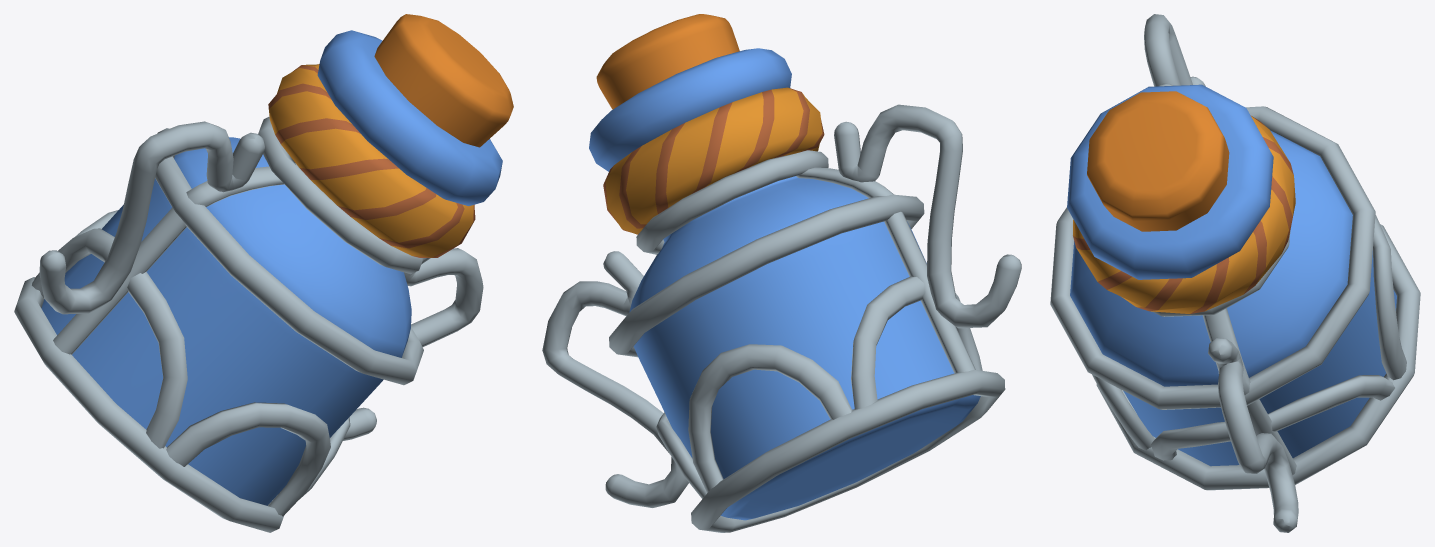
The picture shows the model from 3 angles, left to right: view 1: azimuth 30°, elevation 25°; view 2: azimuth 150°, elevation 25°; view 3: azimuth 270°, elevation 25°; orthographic projection. The views are drawn at different scales.
Visible parts, largest first — view 1: model_1.133; view 2: model_1.133; view 3: model_1.133.
Part boxes in pixels (<box>): model_1.133: <box>14,14,513,532</box>; model_1.133: <box>542,14,1021,532</box>; model_1.133: <box>1050,14,1420,532</box>.
Size of the model in its own units: 4.52 by 4.4 by 3.29.
